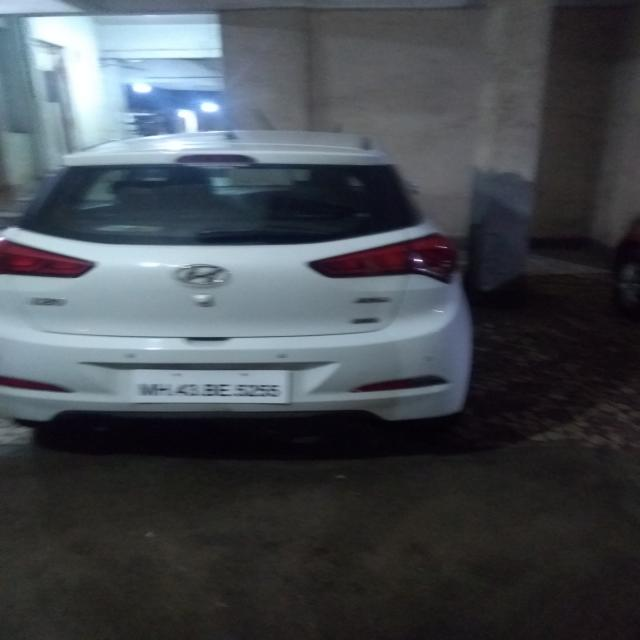Number-Plate: (138, 374, 289, 403)
